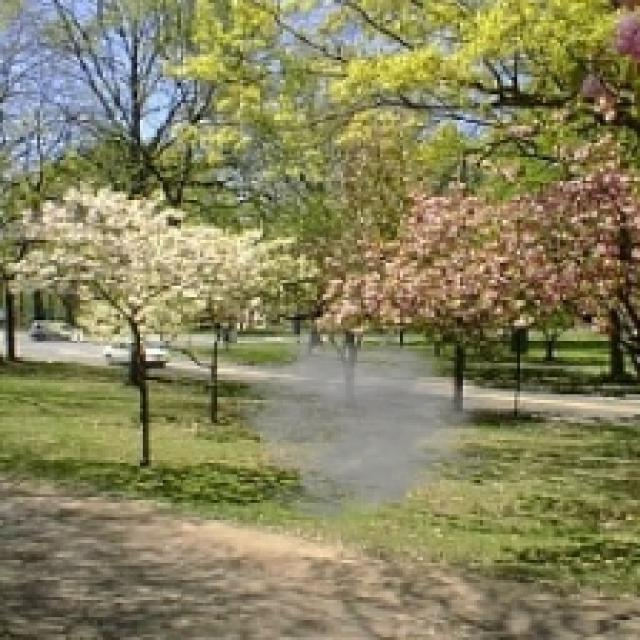Smoke: (228, 326, 498, 538)
